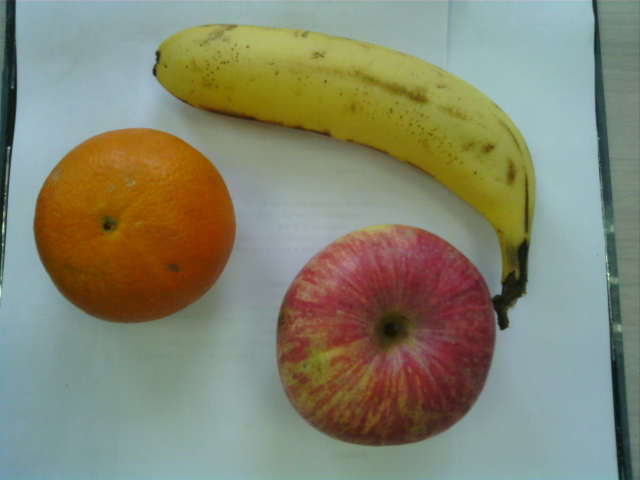normal_apple: (274, 226, 500, 449)
normal_banana: (149, 20, 540, 243)
normal_orange: (32, 124, 240, 325)
